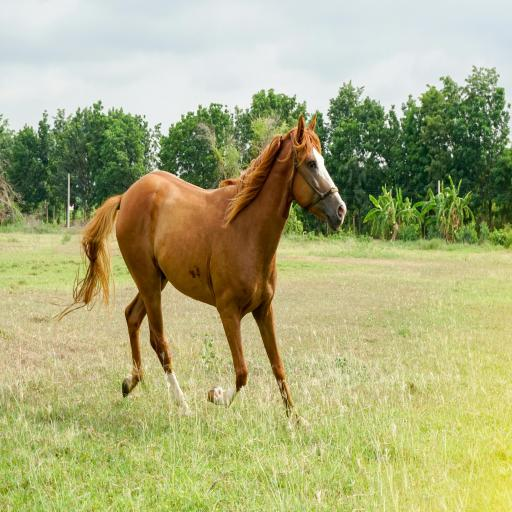horse: (63, 106, 350, 430)
